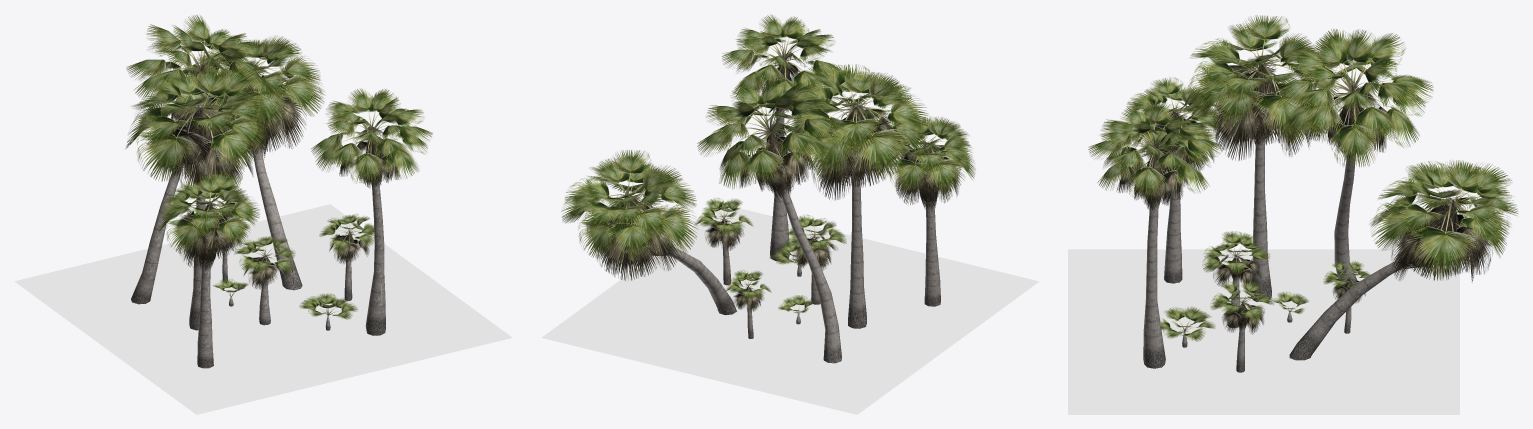
3 views of the same model, side by side, from view 1: azimuth 30°, elevation 25°; view 2: azimuth 150°, elevation 25°; view 3: azimuth 270°, elevation 25° (orthographic). The views are drawn at different scales.
Parts seen in each view (by area): view 1: Plane, Palm 2 Bark.001, Palm 3 Healthy Leaves 15.001, Palm 4 Bark.001, Palm 1 Bark.001, Palm 5 Bark.001, Palm 3 Healthy Leaves 19.001, Palm 4 Healthy Leaves 2.001, Palm 4 Healthy Leaves 1.001, Palm 3 Dead Leaves 11.001, Palm 3 Dead Leaves 13.001, Palm 4 Dead Leaves 3.001 (+29 smaller); view 2: Plane, Palm 1 Bark.001, Palm 3 Bark.001, Palm 3 Healthy Leaves 23.001, Palm 5 Bark.001, Palm 4 Bark.001, Palm 4 Healthy Leaves 4.001, Palm 3 Dead Leaves 12.001, Palm 4 Healthy Leaves 5.001, Palm 4 Dead Leaves 2.001, Palm 3 Dead Leaves 10.001, Palm 2 Bark.001 (+41 smaller); view 3: Plane, Palm 2 Bark.001, Palm 4 Healthy Leaves 10.001, Palm 4 Bark.001, Palm 3 Bark.001, Palm 3 Dead Leaves 7.001, Palm 1 Bark.001, Palm 1Healthy Leaves 3.001, Palm 5 Bark.001, Palm 3 Healthy Leaves 21.001, Palm 3 Healthy Leaves 20.001, Palm 4 Healthy Leaves 2.001 (+52 smaller).
Boxes of the visible parts, left/top/right/bottom form: Plane: left=14, top=204, right=512, bottom=414; Palm 2 Bark.001: left=365, top=179, right=385, bottom=335; Palm 3 Healthy Leaves 15.001: left=136, top=107, right=200, bottom=181; Palm 4 Bark.001: left=251, top=72, right=302, bottom=290; Palm 1 Bark.001: left=131, top=166, right=181, bottom=304; Palm 5 Bark.001: left=197, top=260, right=213, bottom=368; Palm 3 Healthy Leaves 19.001: left=202, top=111, right=258, bottom=169; Palm 4 Healthy Leaves 2.001: left=262, top=70, right=324, bottom=116; Palm 4 Healthy Leaves 1.001: left=244, top=71, right=294, bottom=131; Palm 3 Dead Leaves 11.001: left=195, top=114, right=242, bottom=185; Palm 3 Dead Leaves 13.001: left=165, top=110, right=211, bottom=179; Palm 4 Dead Leaves 3.001: left=270, top=95, right=305, bottom=148; Plane: left=541, top=207, right=1039, bottom=414; Palm 1 Bark.001: left=780, top=184, right=841, bottom=363; Palm 3 Bark.001: left=848, top=105, right=866, bottom=328; Palm 3 Healthy Leaves 23.001: left=844, top=105, right=911, bottom=178; Palm 5 Bark.001: left=924, top=144, right=940, bottom=306; Palm 4 Bark.001: left=626, top=196, right=736, bottom=315; Palm 4 Healthy Leaves 4.001: left=629, top=195, right=698, bottom=253; Palm 3 Dead Leaves 12.001: left=802, top=106, right=862, bottom=178; Palm 4 Healthy Leaves 5.001: left=605, top=203, right=658, bottom=259; Palm 4 Dead Leaves 2.001: left=601, top=204, right=651, bottom=280; Palm 3 Dead Leaves 10.001: left=810, top=119, right=857, bottom=200; Palm 2 Bark.001: left=770, top=108, right=789, bottom=261; Plane: left=1068, top=249, right=1459, bottom=414; Palm 2 Bark.001: left=1143, top=200, right=1165, bottom=368; Palm 4 Healthy Leaves 10.001: left=1410, top=201, right=1478, bottom=277; Palm 4 Bark.001: left=1289, top=199, right=1452, bottom=360; Palm 3 Bark.001: left=1251, top=62, right=1271, bottom=301; Palm 3 Dead Leaves 7.001: left=1213, top=76, right=1269, bottom=160; Palm 1 Bark.001: left=1334, top=153, right=1357, bottom=284; Palm 1Healthy Leaves 3.001: left=1329, top=103, right=1378, bottom=166; Palm 5 Bark.001: left=1164, top=111, right=1182, bottom=283; Palm 3 Healthy Leaves 21.001: left=1254, top=64, right=1315, bottom=143; Palm 3 Healthy Leaves 20.001: left=1207, top=68, right=1265, bottom=127; Palm 4 Healthy Leaves 2.001: left=1371, top=201, right=1447, bottom=250.
Bounding box in the file's own units: 0.2823 × 0.2517 × 0.3249.
Materials: 4 (3 with a texture image).
